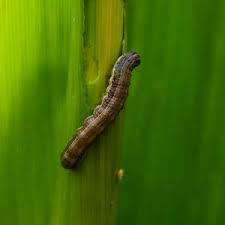Caterpillar: (59, 51, 142, 171)
